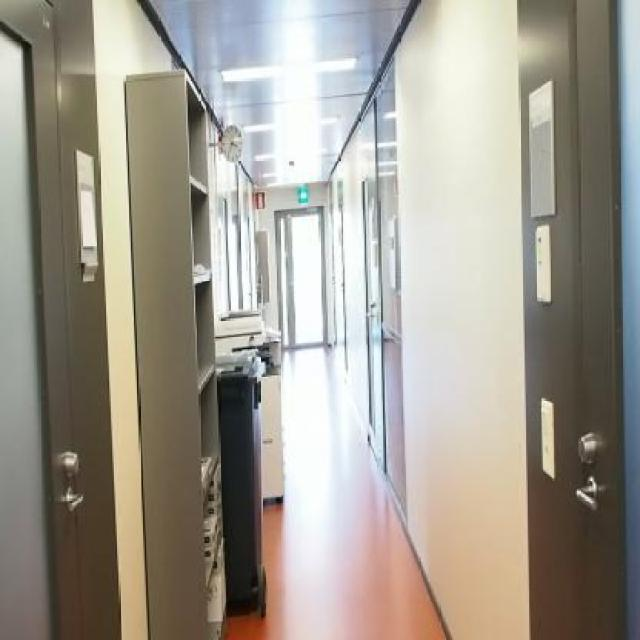emergency_exit: (527, 78, 557, 218), (295, 183, 310, 205), (252, 191, 266, 210)
